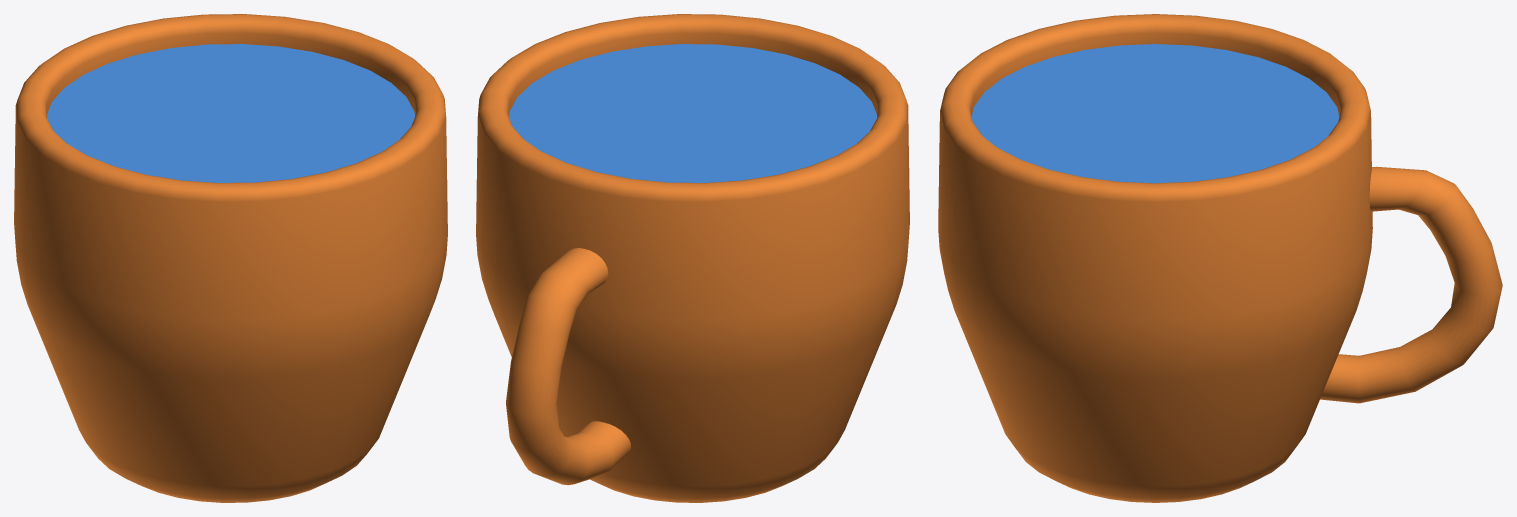
The model's file is XicaraAgua.fbx.
3 views of the same model, side by side, from view 1: azimuth 30°, elevation 25°; view 2: azimuth 150°, elevation 25°; view 3: azimuth 270°, elevation 25° (orthographic).
Visible parts, largest first — view 1: Xicara_Agua; view 2: Xicara_Agua; view 3: Xicara_Agua.
Boxes of the visible parts, <box> form: Xicara_Agua: <box>14,14,447,502</box>; Xicara_Agua: <box>476,14,909,502</box>; Xicara_Agua: <box>938,14,1502,502</box>.
Bounding box in the file's own units: 202 × 182 × 262.
1 material, 1 textured.
